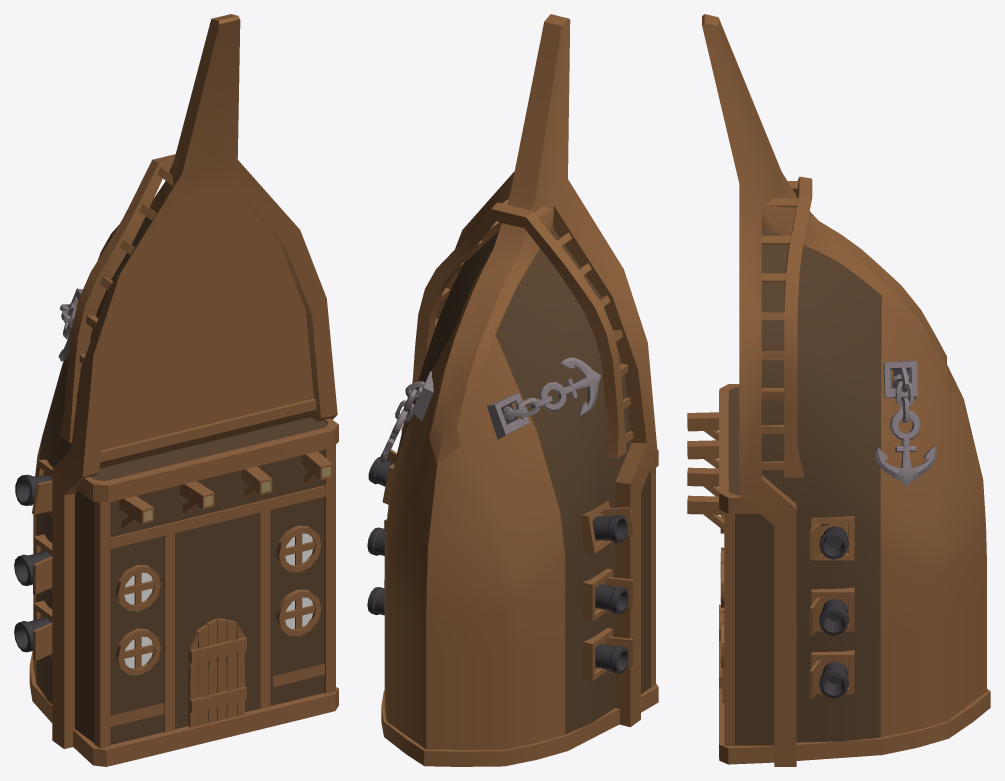
File: house-1.glb
The picture shows the model from 3 angles, left to right: view 1: azimuth 30°, elevation 25°; view 2: azimuth 150°, elevation 25°; view 3: azimuth 270°, elevation 25°; orthographic projection. The views are drawn at different scales.
Parts seen in each view (by area): view 1: Environment_House2; view 2: Environment_House2; view 3: Environment_House2.
Part boxes in pixels (<box>): Environment_House2: <box>14,14,338,766</box>; Environment_House2: <box>367,14,658,766</box>; Environment_House2: <box>687,14,990,766</box>.
Size of the model in its own units: 3.77 by 9.38 by 3.74.
2 materials, 1 textured.
